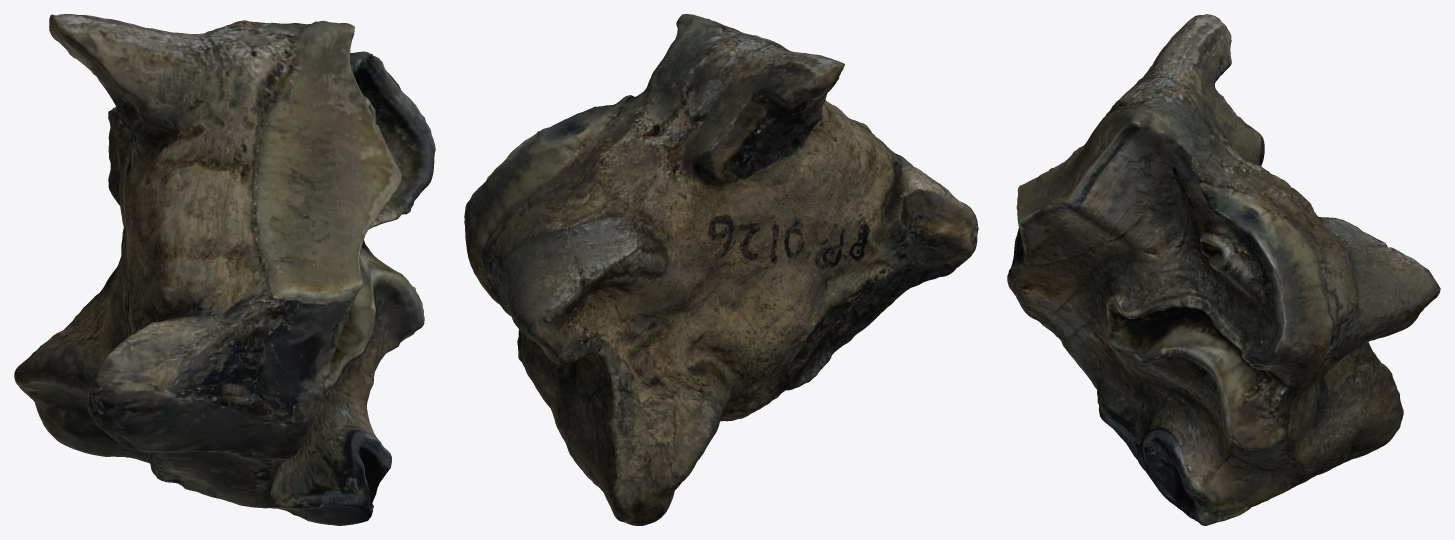
File: 3-3_Rhino_Tooth_3DModel.glb
The picture shows the model from 3 angles, left to right: view 1: azimuth 30°, elevation 25°; view 2: azimuth 150°, elevation 25°; view 3: azimuth 270°, elevation 25°; orthographic projection. The views are drawn at different scales.
Parts seen in each view (by area): view 1: 3DModel; view 2: 3DModel; view 3: 3DModel.
Part boxes in pixels (x1,y1,x2,y2): 3DModel: (14, 14, 435, 525); 3DModel: (464, 14, 978, 525); 3DModel: (1007, 14, 1440, 525).
Bounding box in the file's own units: 0.3192 × 0.3506 × 0.3383.
Materials: 1 (1 with a texture image).
